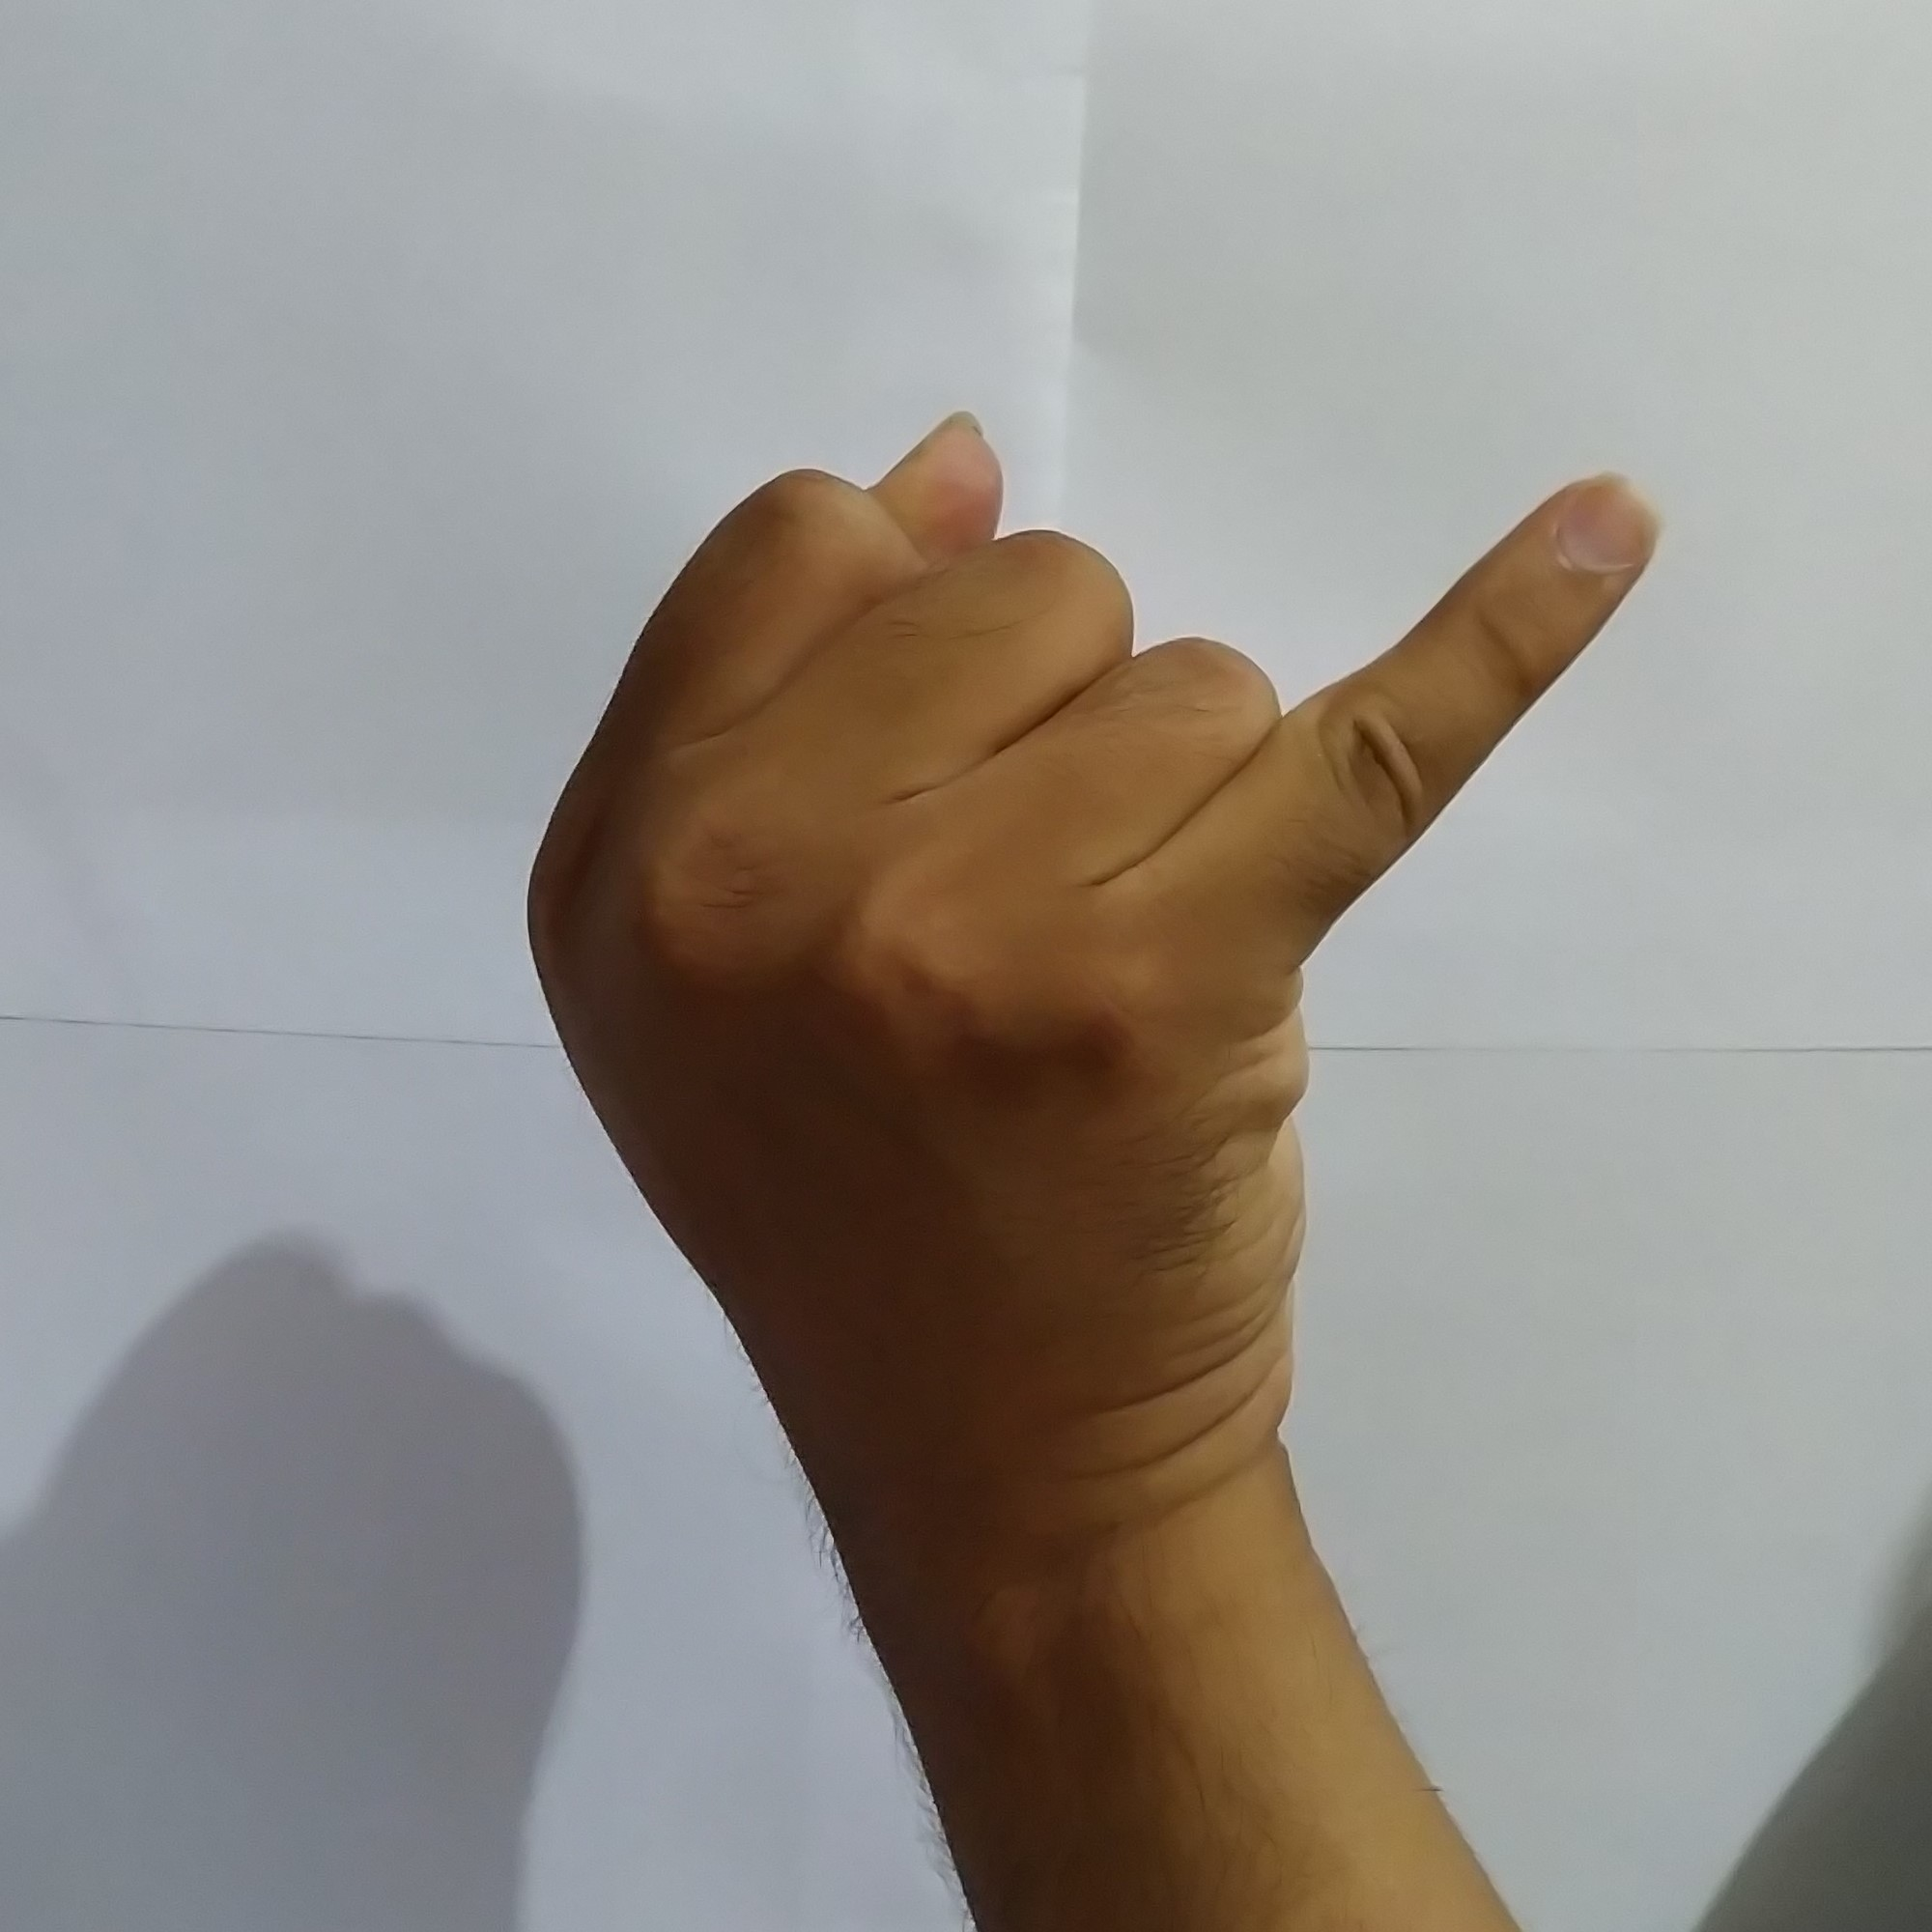J: (495, 387, 1691, 1433)
